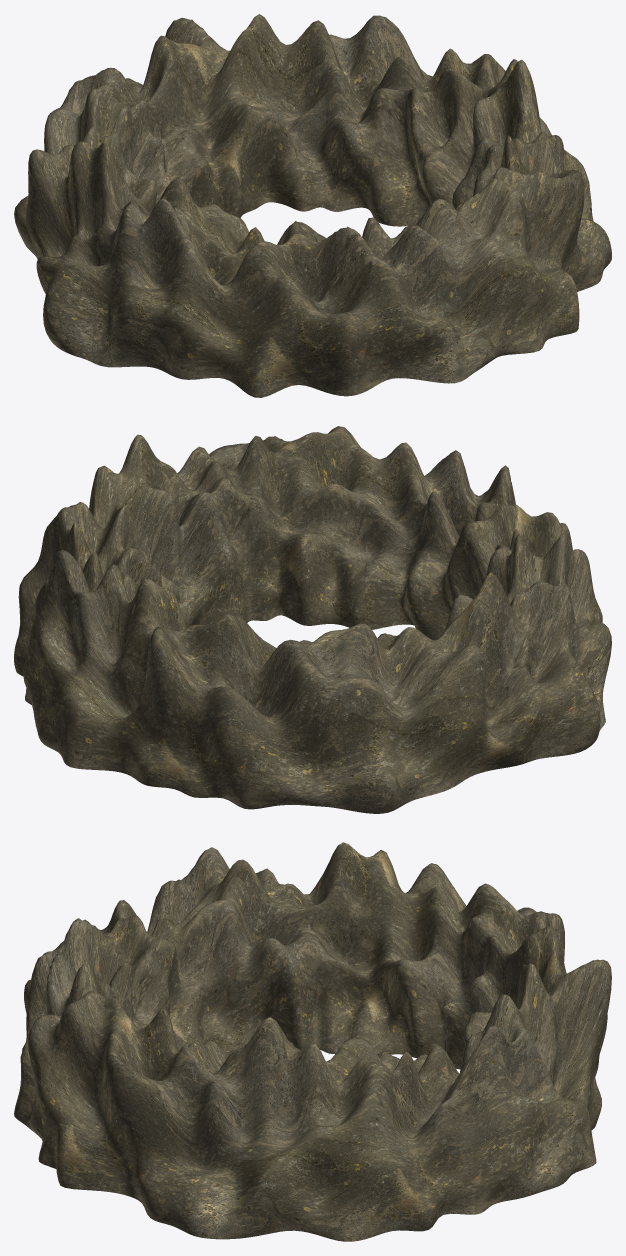
File: Cliff.glb
3 renders of one model, top to bottom at view 1: azimuth 30°, elevation 25°; view 2: azimuth 150°, elevation 25°; view 3: azimuth 270°, elevation 25°, orthographic. The views are drawn at different scales.
Parts seen in each view (by area): view 1: Mesh; view 2: Mesh; view 3: Mesh.
Part boxes in pixels (<box>): Mesh: <box>14,14,611,397</box>; Mesh: <box>14,426,611,813</box>; Mesh: <box>14,842,611,1241</box>.
Size of the model in its own units: 109 by 36.77 by 104.
1 material, 1 textured.
